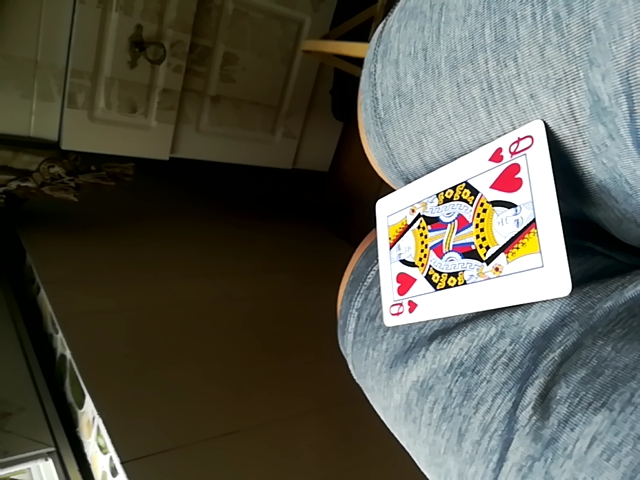hx q: (369, 123, 569, 329)
